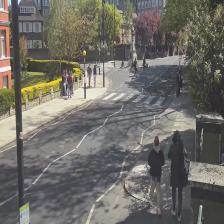person: (167, 130, 187, 220), (148, 136, 164, 216)
